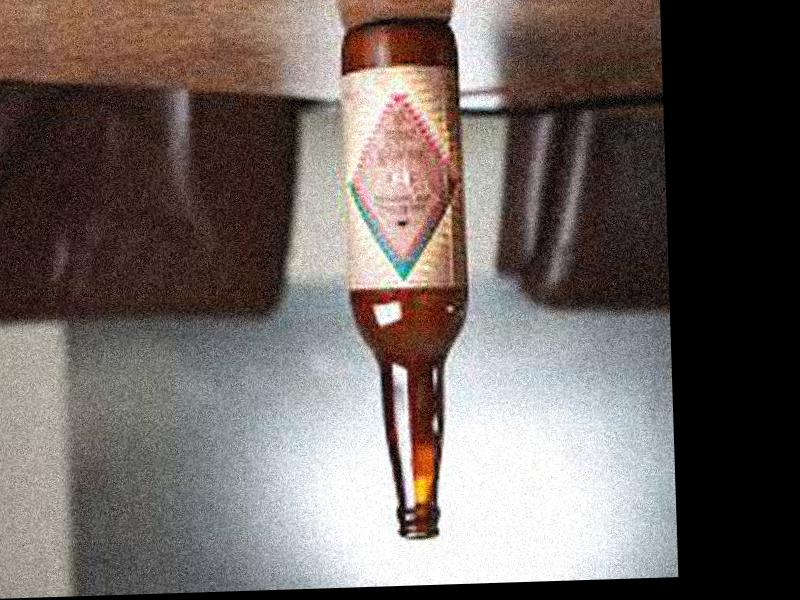Beer: (343, 19, 473, 537)
